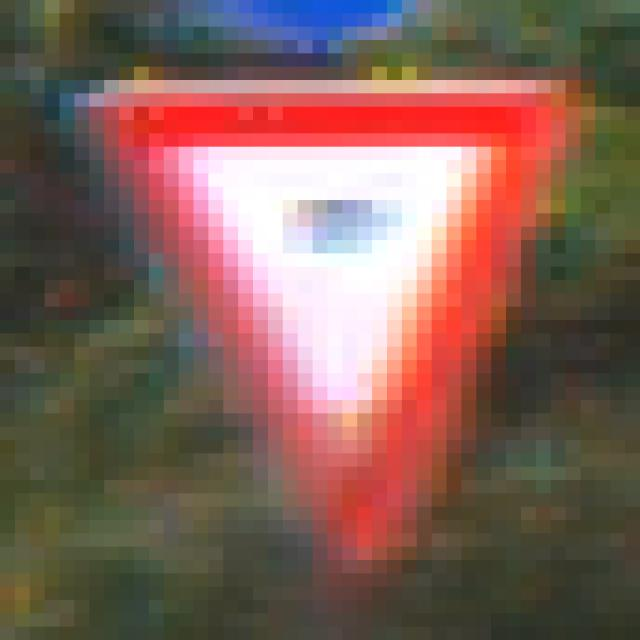Give Way: (76, 68, 567, 561)
